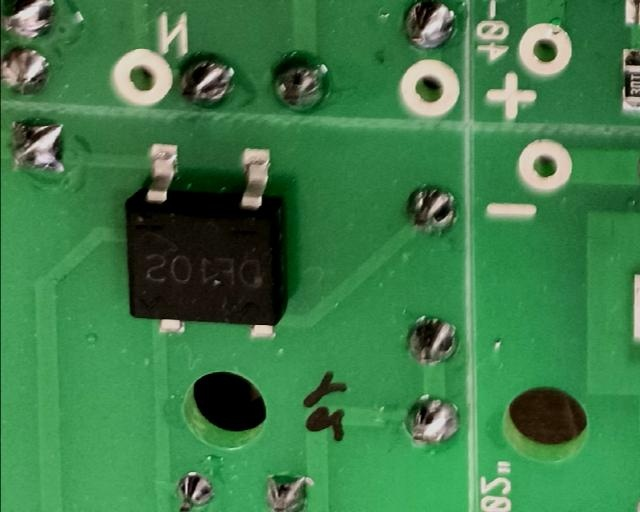chip-resistor: (619, 46, 640, 115)
ic: (124, 141, 292, 339)
